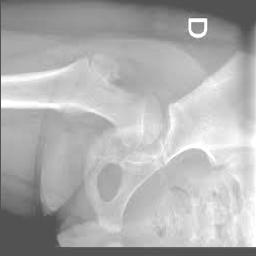cancer: (85, 129, 163, 194)
